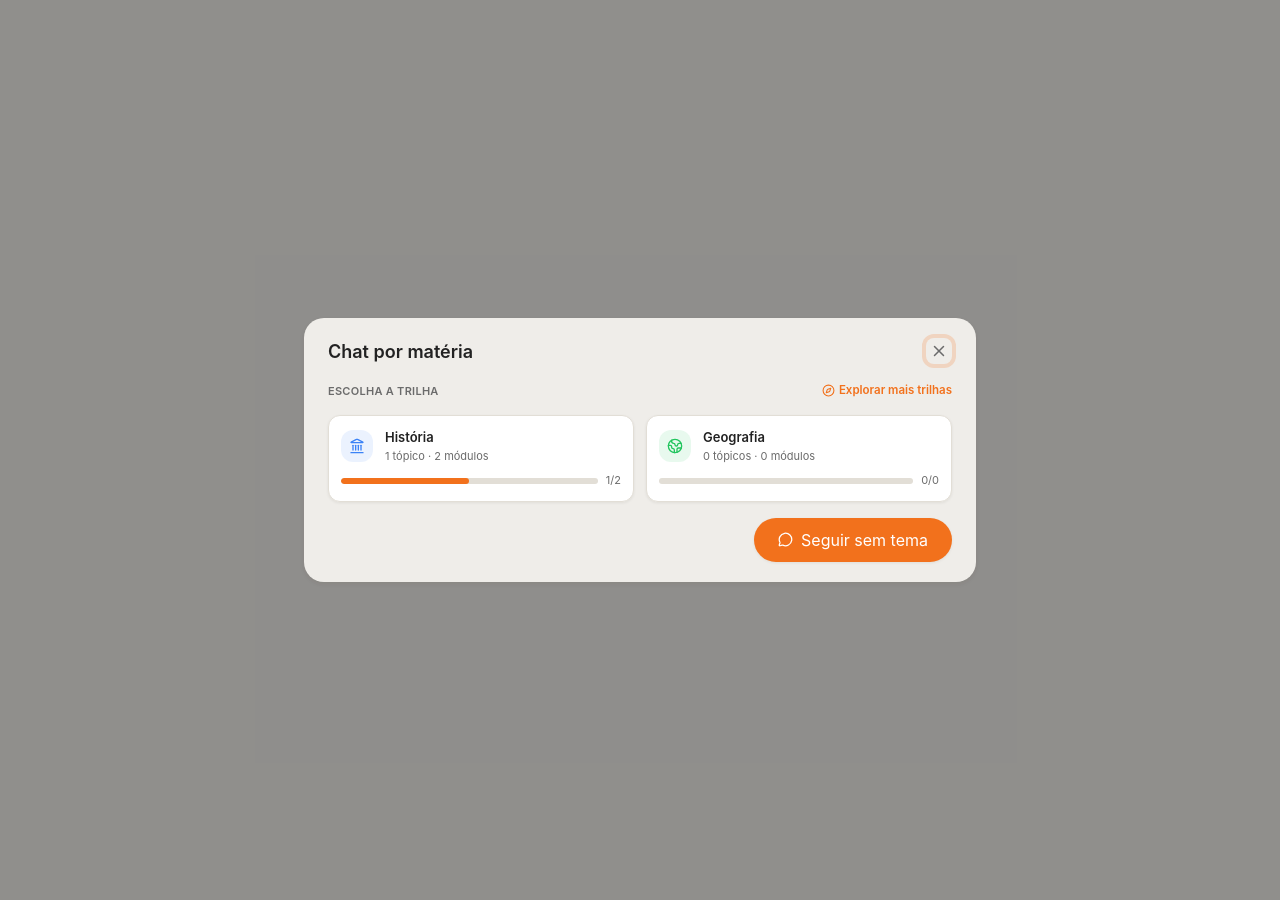
Test: TrocarMateriaModal › lista as trilhas e mostra o caminho da escolhida
Expected: the dialog "Chat por matéria" is shown, [304,318,976,582]
Expected: the text "Toque no ▶" is not shown
Click the button "História 1 tópico · 2 módulos 1/2" at x=481, y=459, box [328,415,634,502]
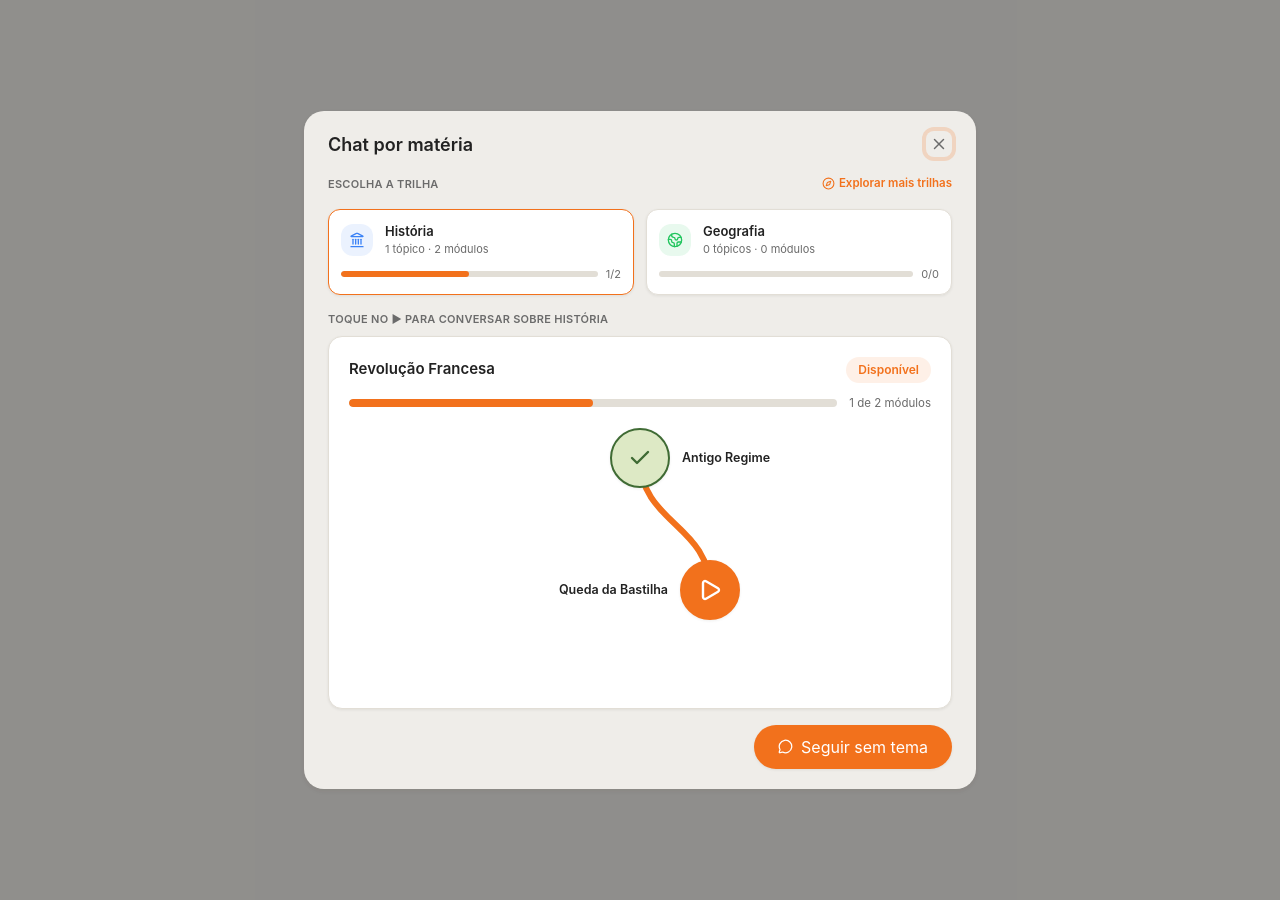
Expected: the text "Toque no ▶ para conversar sobre História" is shown, [328,312,608,326]
